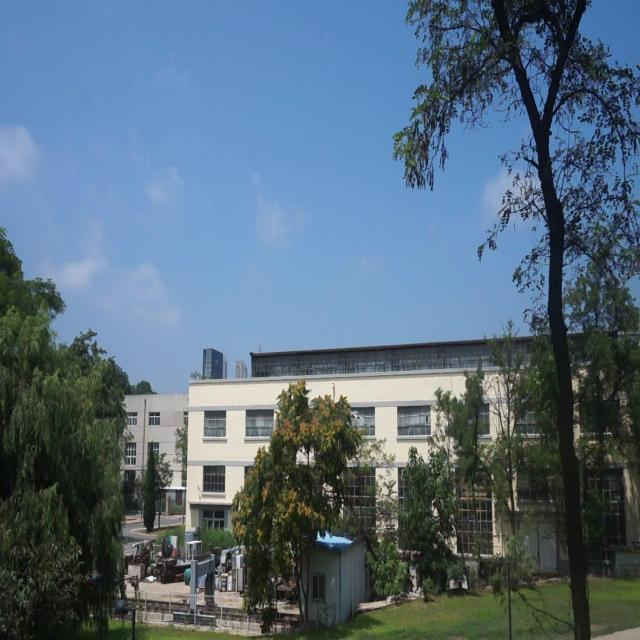UAV: (349, 410, 362, 425)
